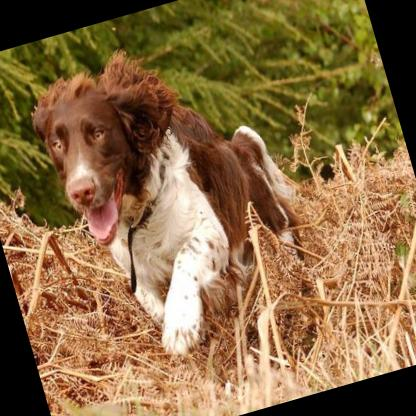Welsh_springer_spaniel: (21, 21, 325, 377)
